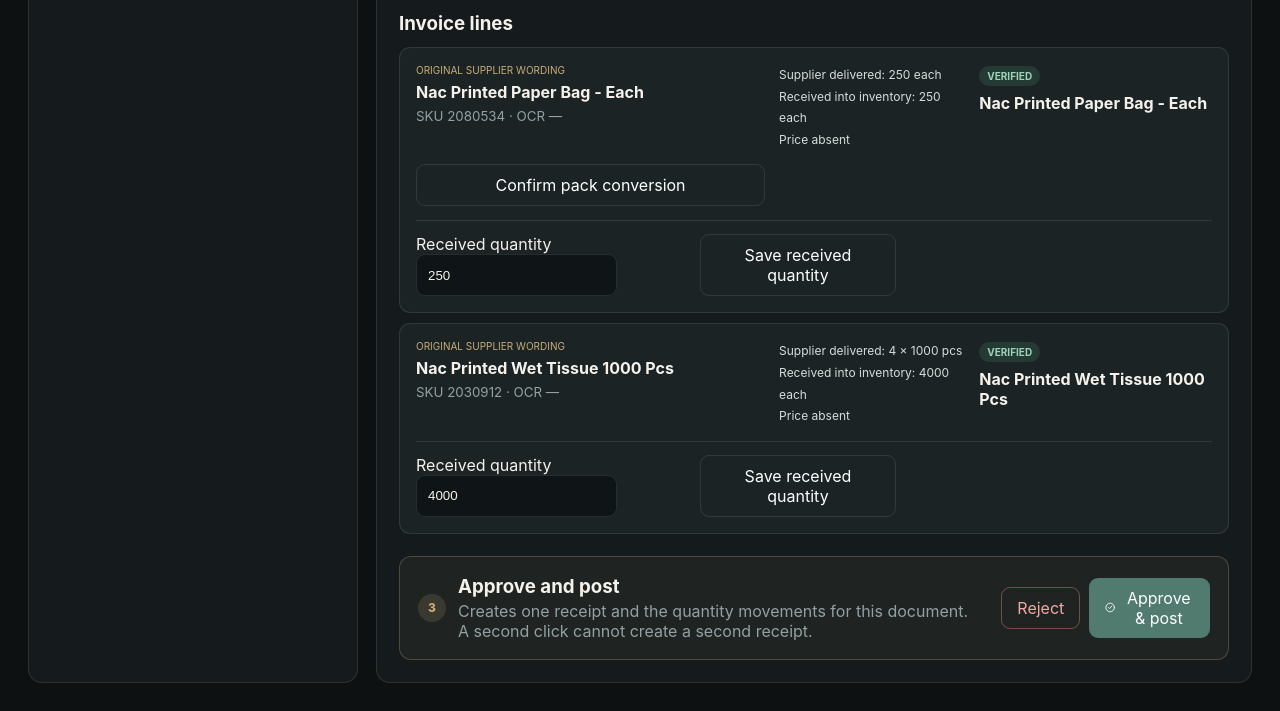
Scenario: Approve and post result › a successful post becomes POSTED and cannot be clicked again
This screenshot has width=1280, height=711.
(page scrolled)
Click the button "Approve & post". click: (1150, 608)
box: x1=1089 y1=578 x2=1210 y2=638
(page scrolled)
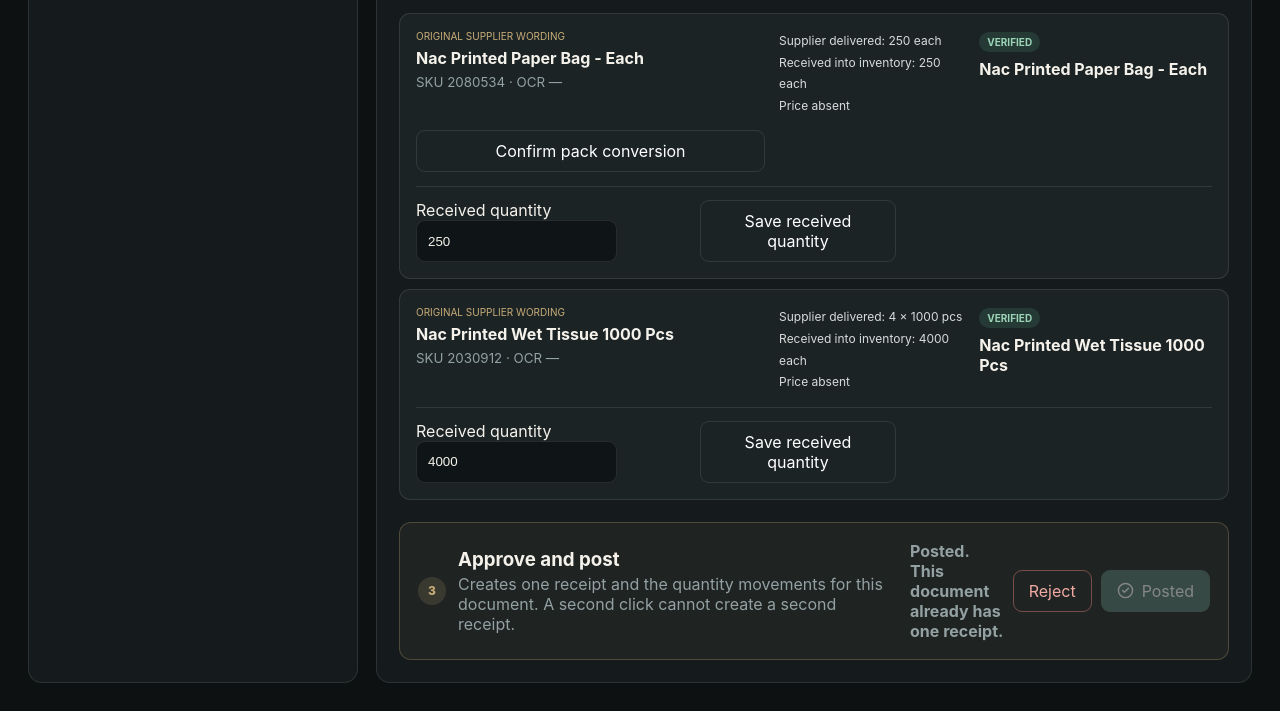
Result: the button "Posted" is disabled at x1=1101 y1=570 x2=1210 y2=612
